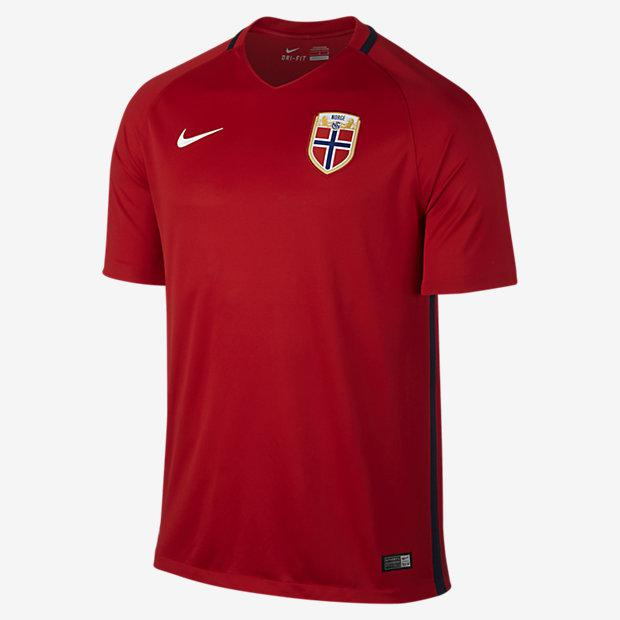teeshirt: (85, 16, 552, 618)
